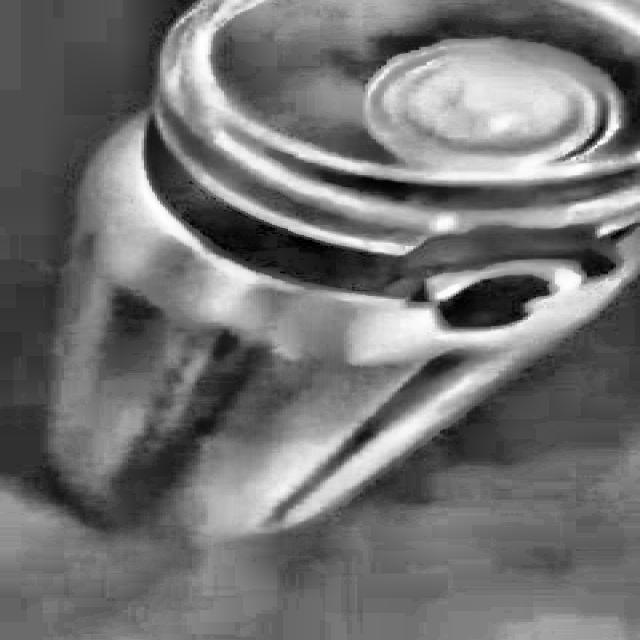bottle: (61, 0, 640, 531)
